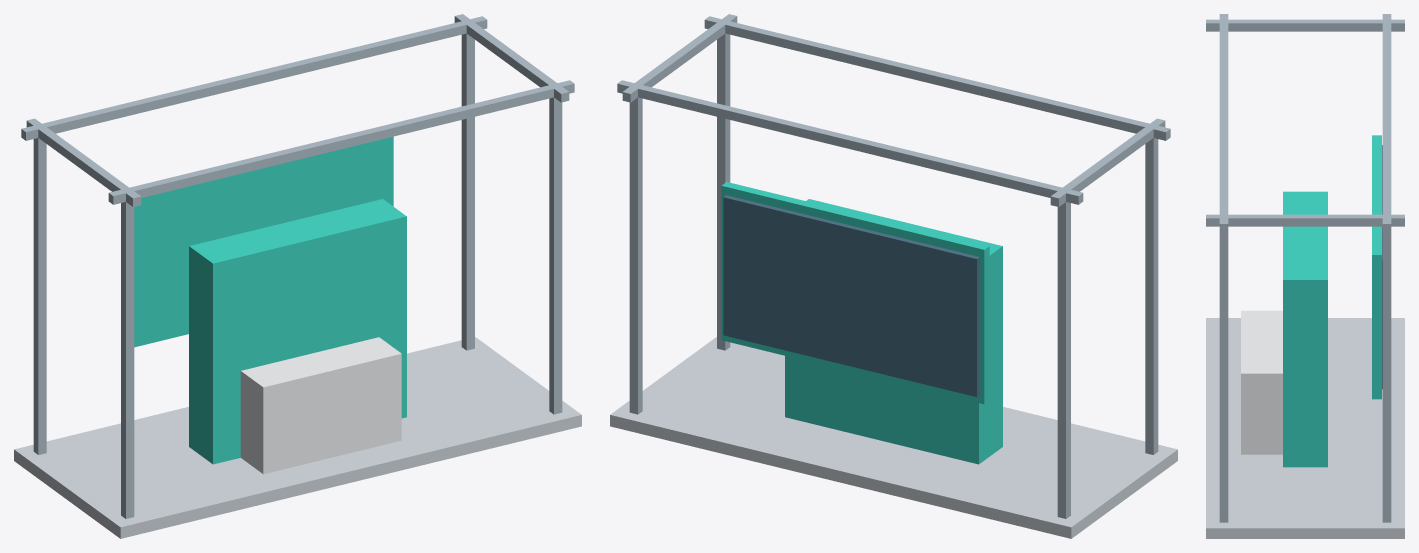
3 renders of one model, left to right at view 1: azimuth 30°, elevation 25°; view 2: azimuth 150°, elevation 25°; view 3: azimuth 270°, elevation 25°, orthographic. The views are drawn at different scales.
Parts seen in each view (by area): view 1: Exhibition Booth Concept; view 2: Exhibition Booth Concept; view 3: Exhibition Booth Concept.
Part boxes in pixels (bbox=[...]): Exhibition Booth Concept: bbox=[14, 14, 581, 538]; Exhibition Booth Concept: bbox=[610, 14, 1177, 538]; Exhibition Booth Concept: bbox=[1206, 14, 1404, 538].
Bounding box in the file's own units: 5 × 3.49 × 2.
